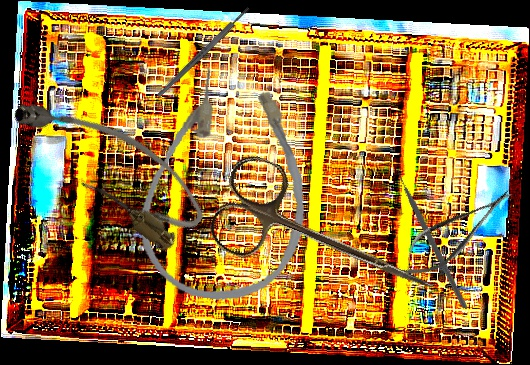Cannula: (129, 60, 327, 312), (3, 70, 216, 258)
Chopper: (352, 159, 516, 310)
Iris Scissors: (203, 149, 454, 329)
Micro Scissor: (388, 176, 524, 290)
Scalpel Handle: (155, 5, 252, 99)
